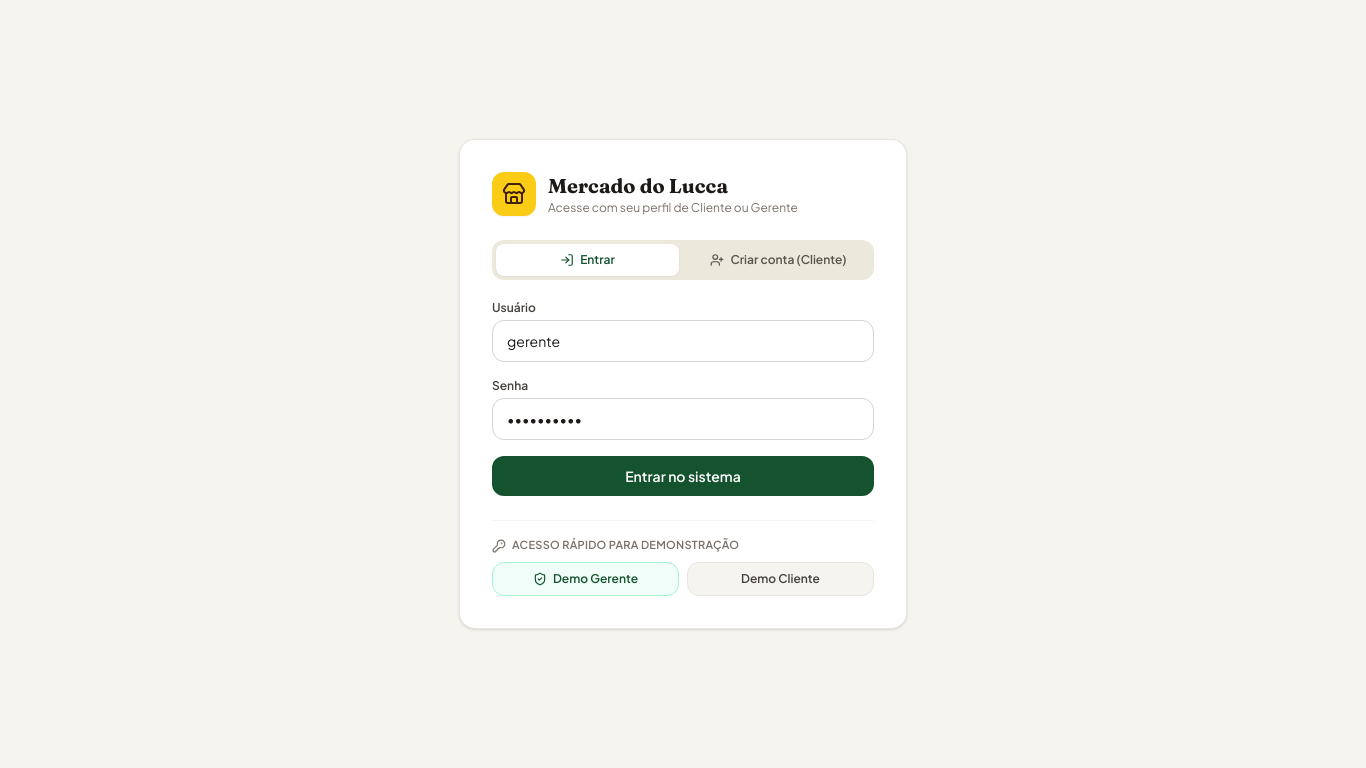
Scenario: Mercado do Lucca — Fluxos completos com Auth e RBAC › autentica na tela /login (Demo Gerente, erro e registro de Cliente), aplica RBAC e faz logout
This screenshot has width=1366, height=768.
Earlier steps of the test are not shown.
Expected: the field labelled "Usuário" holds "gerente", [492,320,874,362]
Click the button "Entrar no sistema".
click(683, 476)  # box [492,456,874,496]
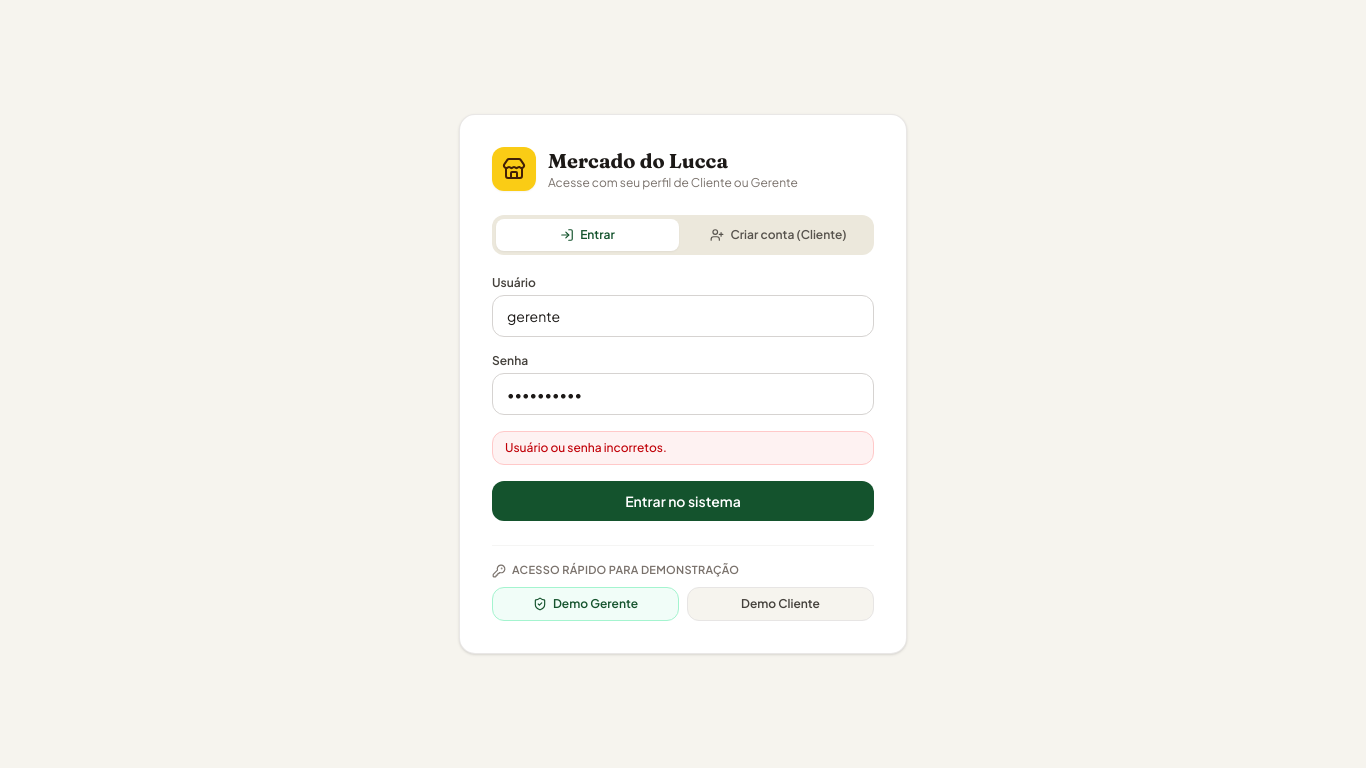
Expected: the text "Usuário ou senha incorretos." is shown, [492,431,874,465]
Note: Cadastro de novo Cliente pela aba Criar conta
Click the button "Criar conta (Cliente)".
click(778, 235)  # box [687,219,870,251]
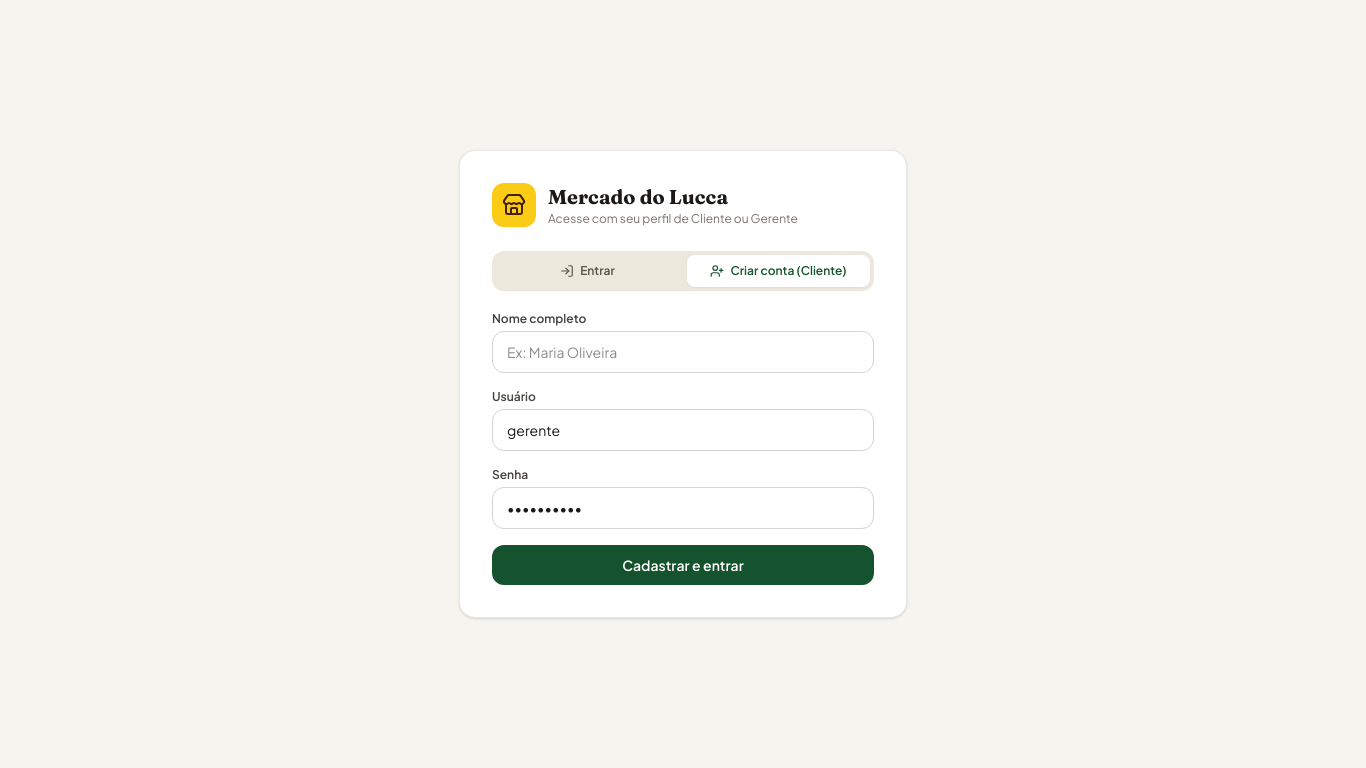
Type "Maria Silva" into the field labelled "Nome completo".
click(683, 352); type("Maria Silva")  # box [492,331,874,373]
Replace the text in the field labelled "Usuário" with "maria" at x=683, y=430, box [492,409,874,451]
Type "maria123" into the password field labelled "Senha".
click(683, 508); type("maria123")  # box [492,487,874,529]
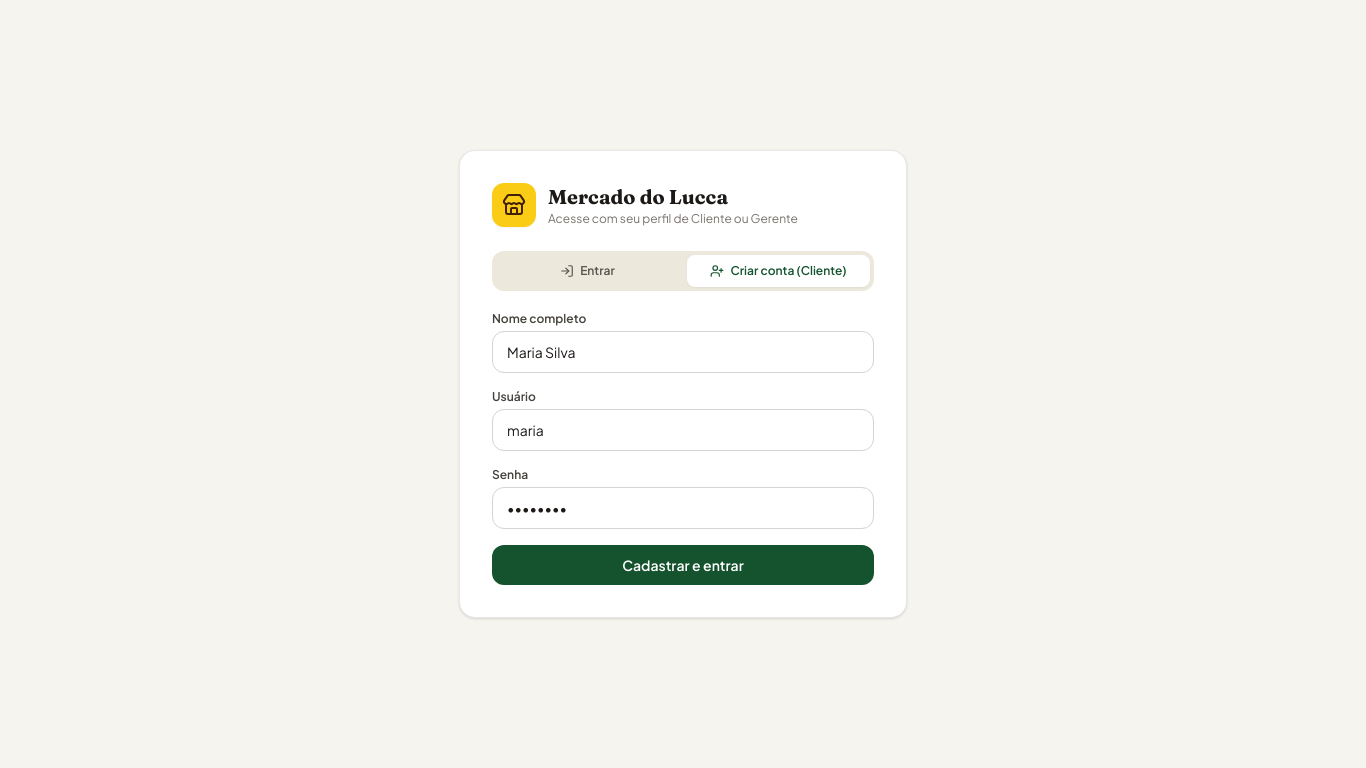
Click the button "Cadastrar e entrar".
click(683, 565)  # box [492,545,874,585]
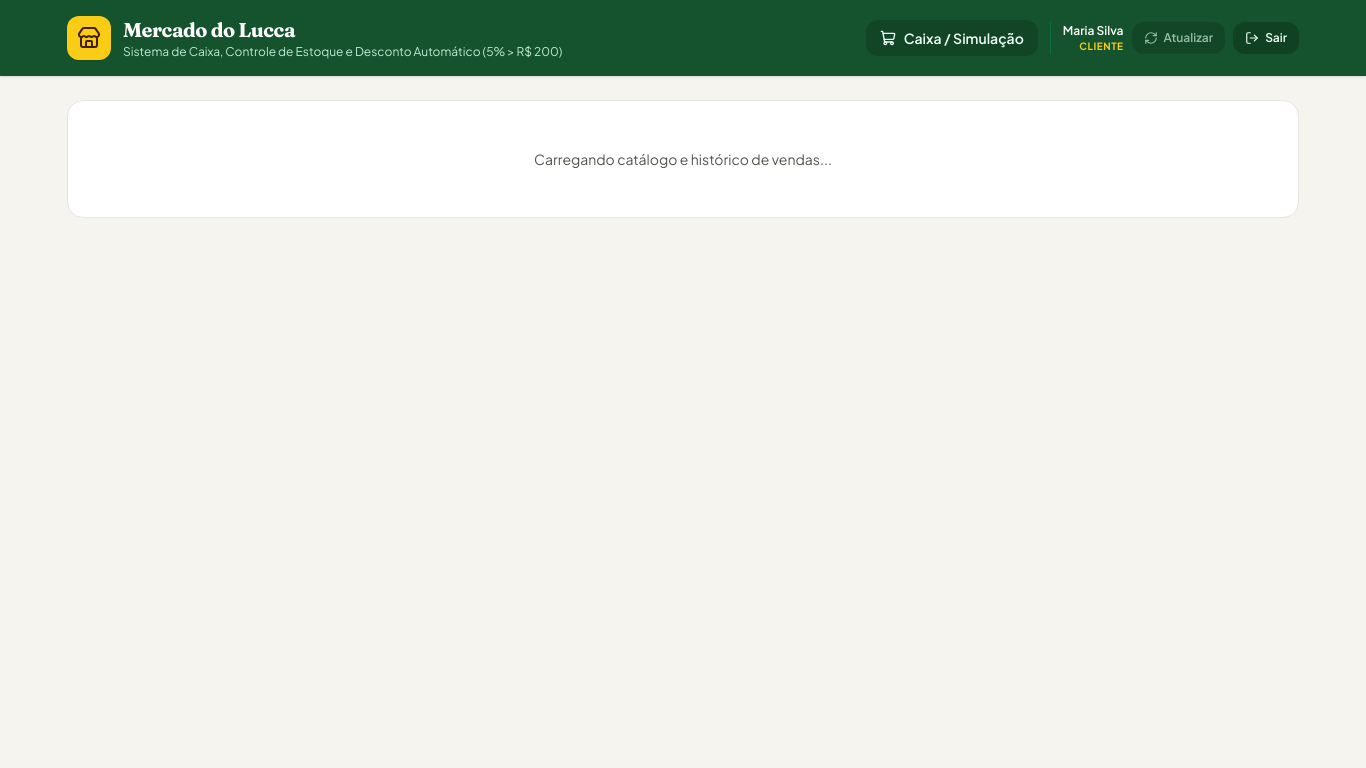
Expected: the text "Maria Silva" is shown, [1063,22,1124,38]
Click the button "Sair".
click(1266, 38)  # box [1233,22,1299,54]
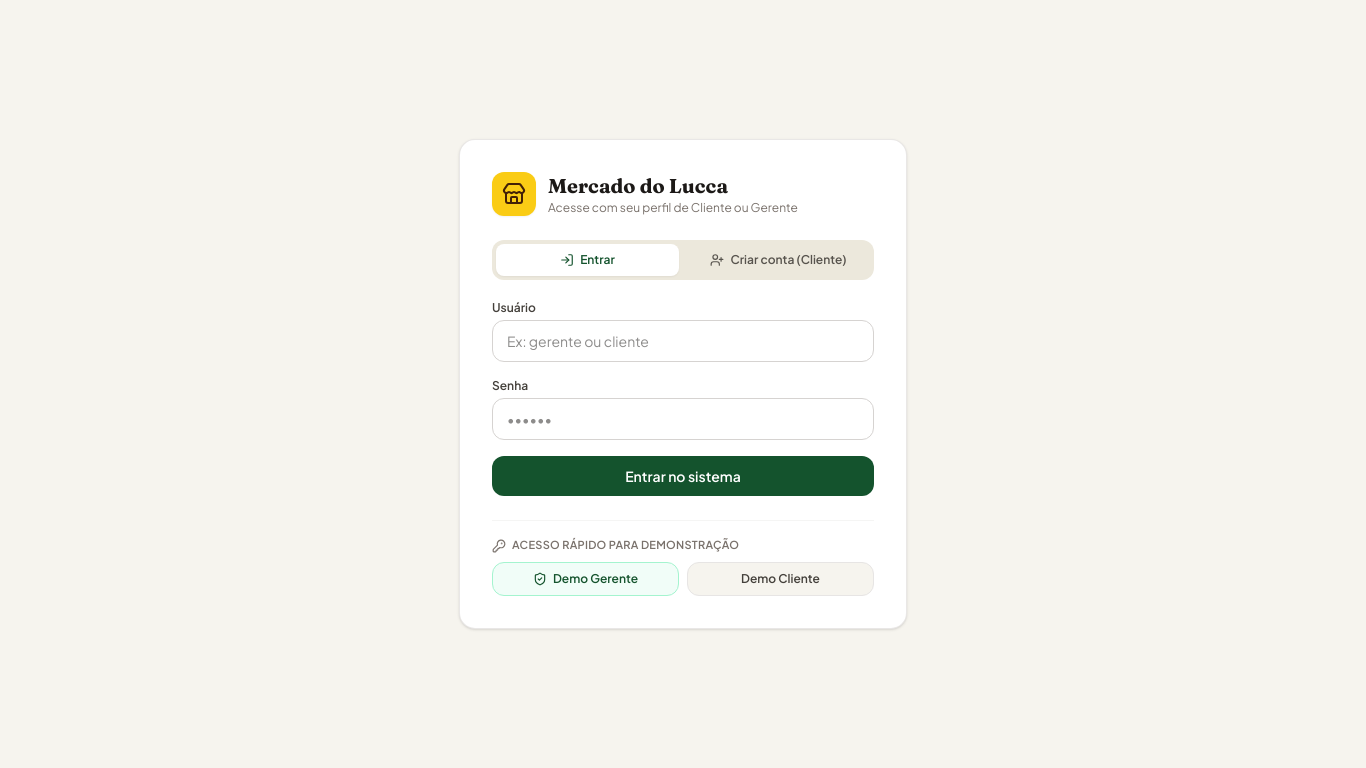
Expected: the button "Entrar no sistema" is shown, [492,456,874,496]
Note: Preenche Demo Cliente e autentica
Click the button "Demo Cliente".
click(780, 579)  # box [687,562,874,596]
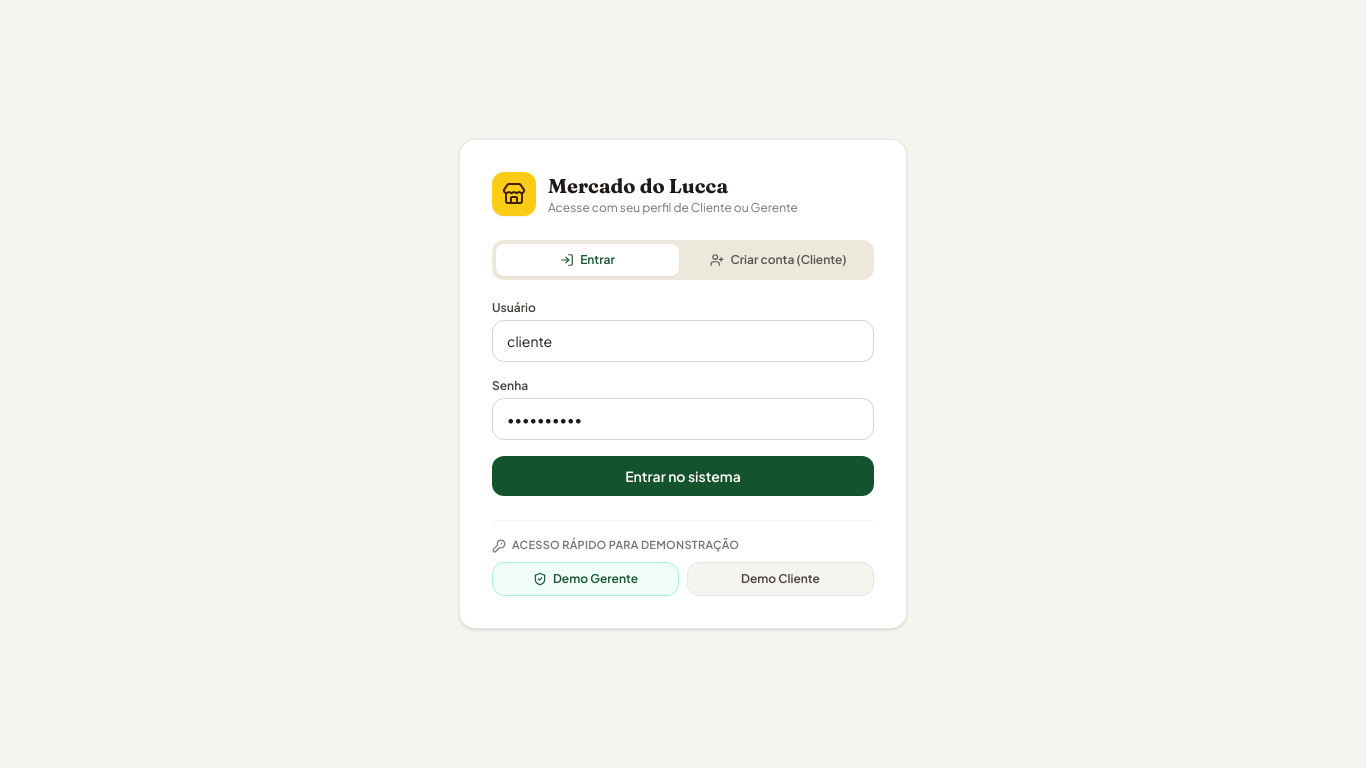
Expected: the field labelled "Usuário" holds "cliente", [492,320,874,362]
